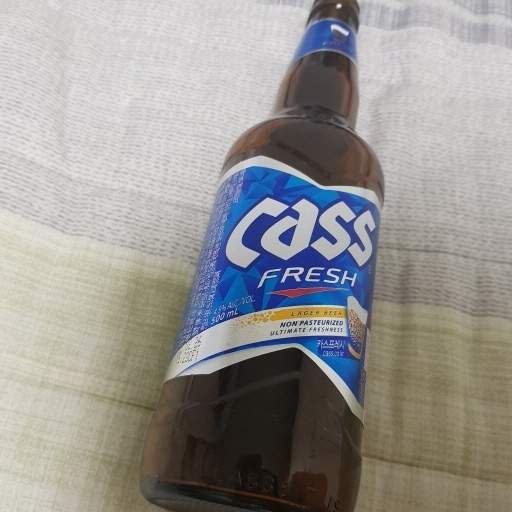Glass_1: (143, 1, 391, 512)
